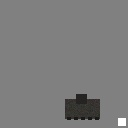supply_truck: (65, 99, 100, 119)
